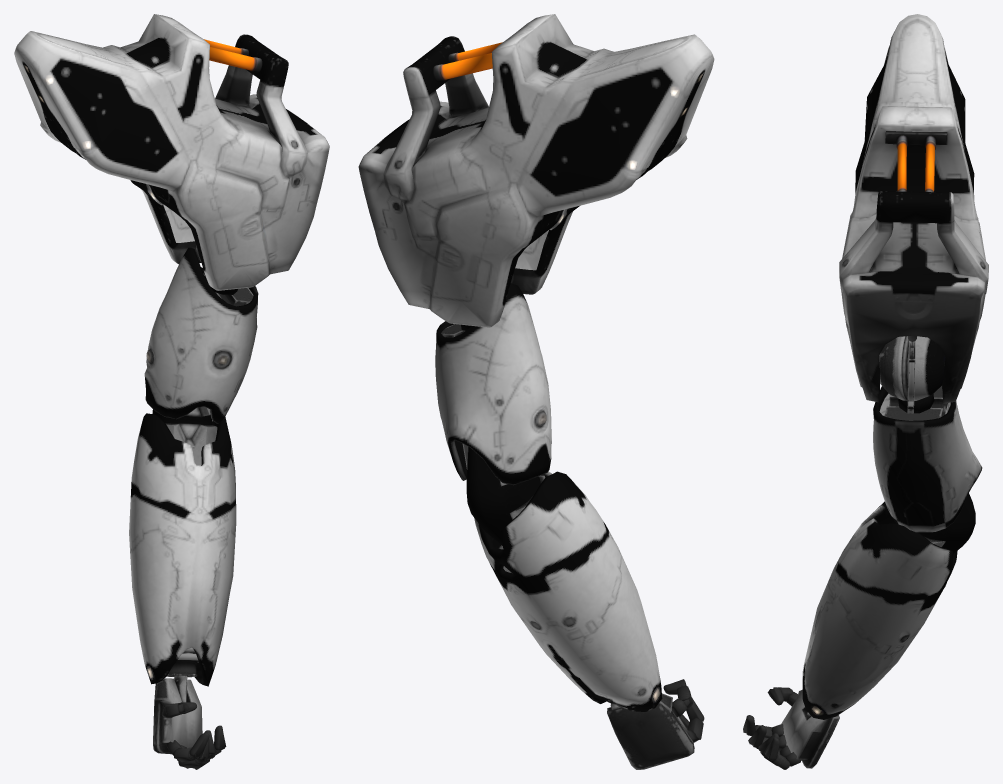
File: armRDEF.gltf
3 renders of one model, left to right at view 1: azimuth 30°, elevation 25°; view 2: azimuth 150°, elevation 25°; view 3: azimuth 270°, elevation 25°, orthographic. The views are drawn at different scales.
Parts seen in each view (by area): view 1: MP_DEF_Arm_R, MP_DEF_Frame_Arm_R; view 2: MP_DEF_Arm_R, MP_DEF_Frame_Arm_R; view 3: MP_DEF_Arm_R, MP_DEF_Frame_Arm_R.
Part boxes in pixels (bbox=[...]): MP_DEF_Arm_R: bbox=[14, 14, 329, 686]; MP_DEF_Frame_Arm_R: bbox=[152, 245, 253, 769]; MP_DEF_Arm_R: bbox=[358, 14, 714, 711]; MP_DEF_Frame_Arm_R: bbox=[441, 274, 704, 769]; MP_DEF_Arm_R: bbox=[802, 14, 988, 719]; MP_DEF_Frame_Arm_R: bbox=[743, 335, 975, 769].
Size of the model in its own units: 0.5233 by 1.27 by 0.4021.
